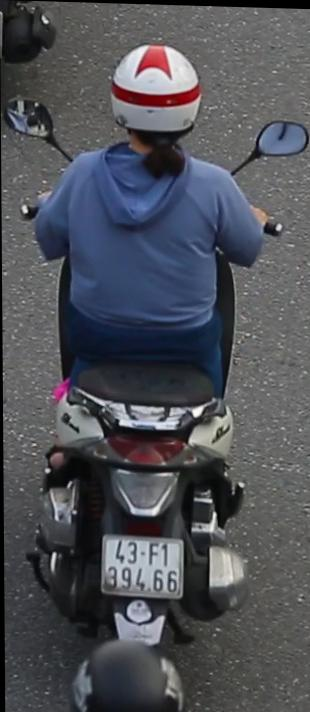LP: (97, 525, 185, 602)
helmet: (106, 33, 204, 165)
